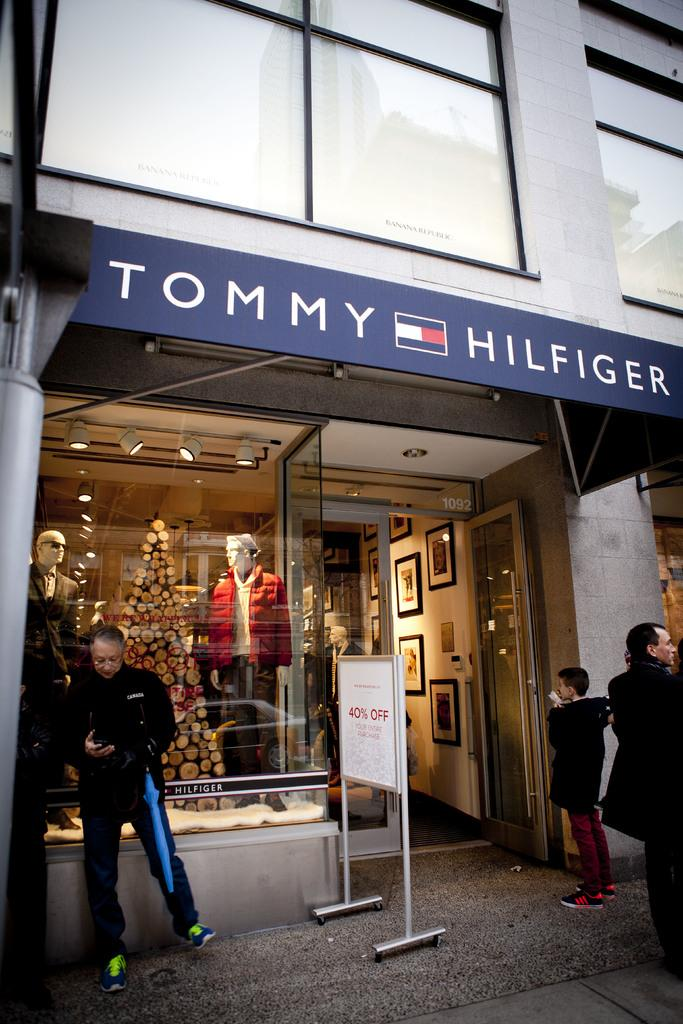handle: (506, 583, 535, 816)
